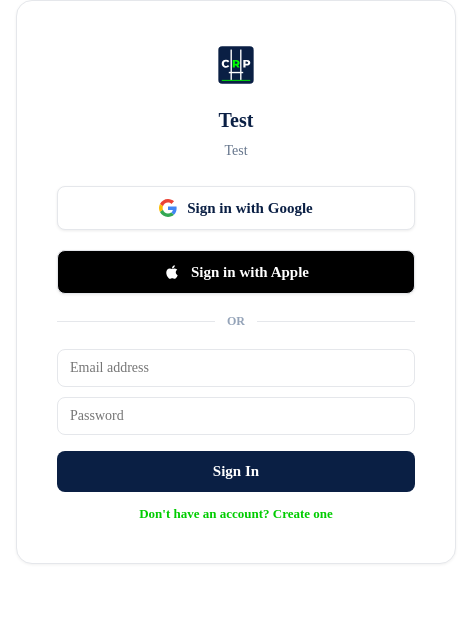
AuthGate › toggles back to login mode
This screenshot has width=473, height=629.
Click the button "Don't have an account? Create one" at [236, 514], box [133,505,339,523]
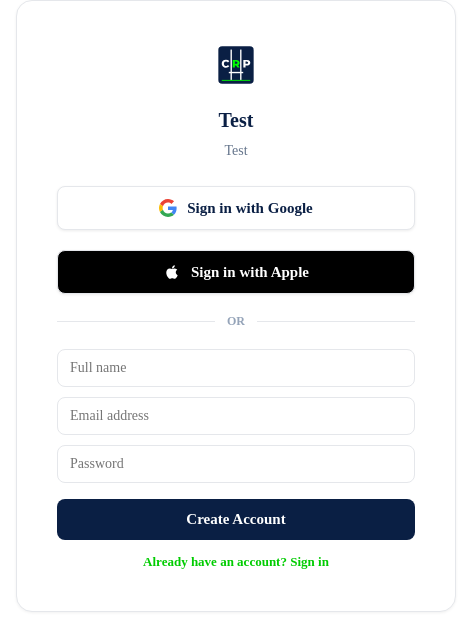
Click the button "Already have an account? Sign in" at [236, 562], box [137,553,335,571]
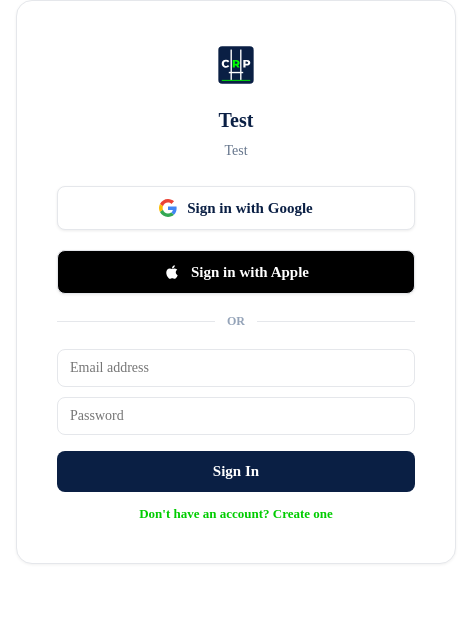
Expected: the button "Sign In" is shown, [57,451,415,492]
